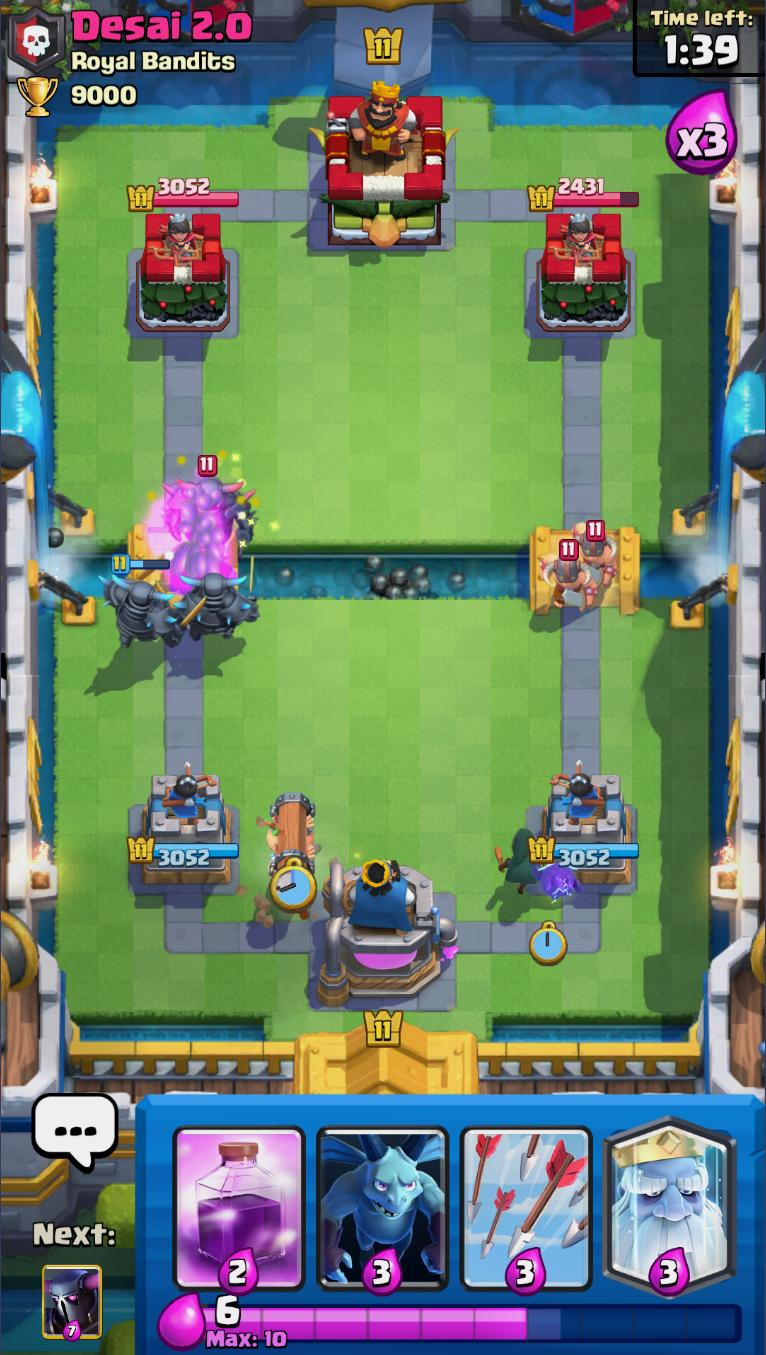ArrowDeck: (456, 1094, 598, 1295)
EliteBarbarian: (537, 540, 599, 613), (568, 518, 621, 591)
Elixir: (203, 1295, 744, 1350)
EnemyTower: (533, 208, 631, 331), (133, 210, 229, 335)
KingTower: (308, 82, 456, 248)
MinionsDeck: (311, 1095, 455, 1296)
MyBandit: (493, 827, 544, 892)
MyBattleRam: (261, 790, 320, 877)
MyElectroSpirit: (530, 862, 586, 899)
MyKingTower: (319, 856, 458, 1009)
MyPekka: (96, 554, 205, 652), (166, 550, 265, 653)
MyPrincessTower: (524, 771, 639, 887), (125, 769, 238, 887)
MyPrincessTowerHP: (125, 836, 238, 868), (525, 835, 637, 867)
Pekka: (163, 454, 257, 546)
PekkaNext: (40, 1264, 105, 1344)
PrincessTower: (546, 213, 603, 264), (144, 214, 200, 264)
RageDeck: (167, 1095, 310, 1296)
RoyaleGhostDeck: (598, 1094, 743, 1296)
TowerPrincessHP: (126, 178, 239, 213), (526, 178, 639, 212)
